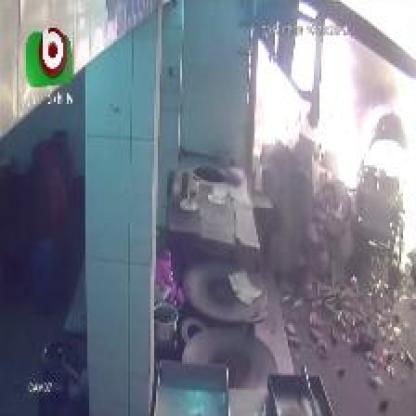fire: (251, 2, 388, 163), (344, 2, 414, 282)
